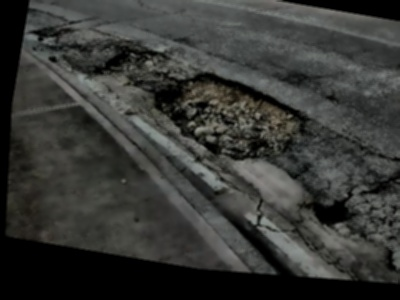pothole: (135, 49, 321, 182), (86, 35, 175, 88), (306, 192, 357, 231), (29, 20, 74, 51), (27, 2, 40, 20)
